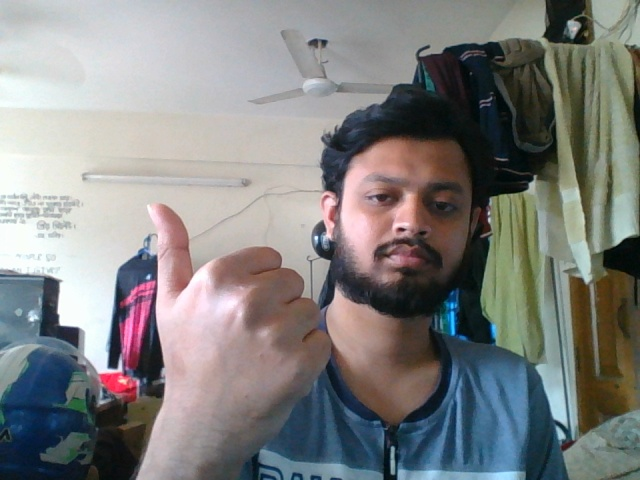do: (136, 196, 342, 453)
